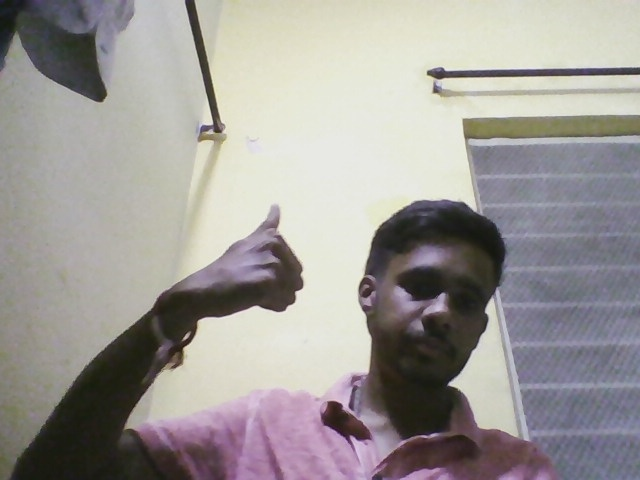yes: (178, 196, 327, 344)
